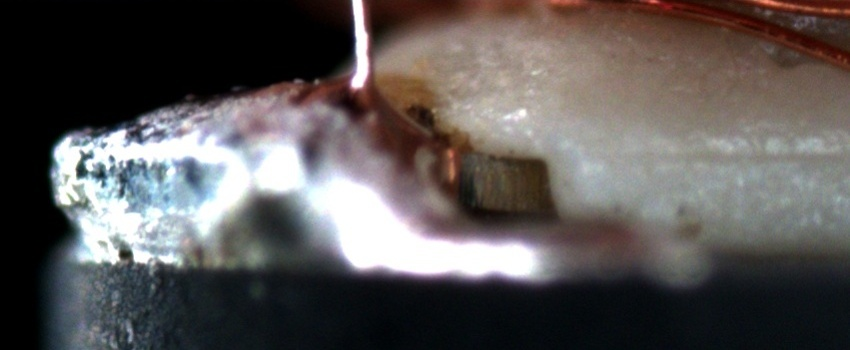DL: (570, 125, 849, 190)
